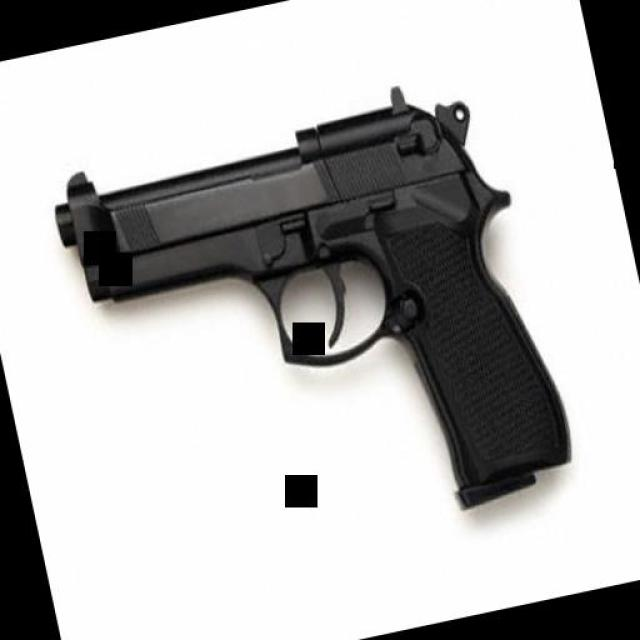gun: (41, 65, 578, 581)
